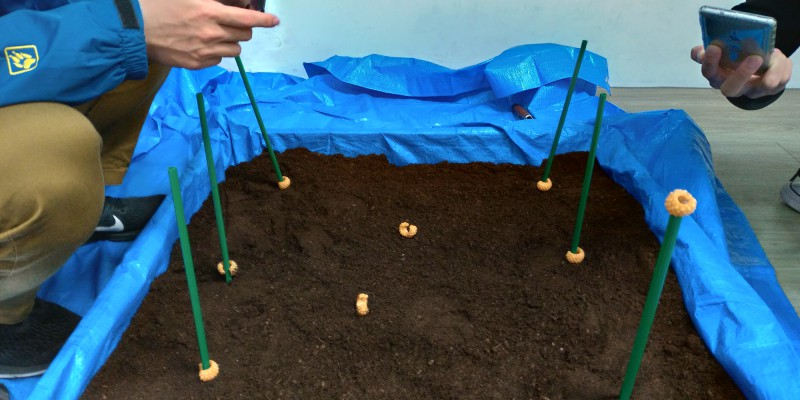eggs: (663, 184, 699, 221), (193, 356, 222, 385), (393, 217, 420, 239), (352, 288, 372, 317), (563, 242, 585, 265), (534, 170, 554, 195), (216, 255, 238, 277), (275, 172, 294, 191)
